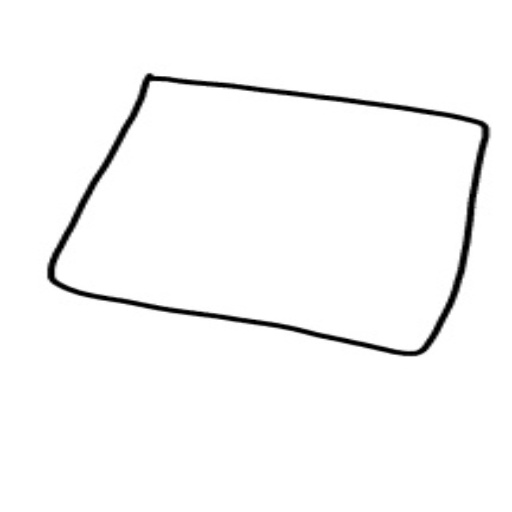square: (40, 72, 494, 358)
